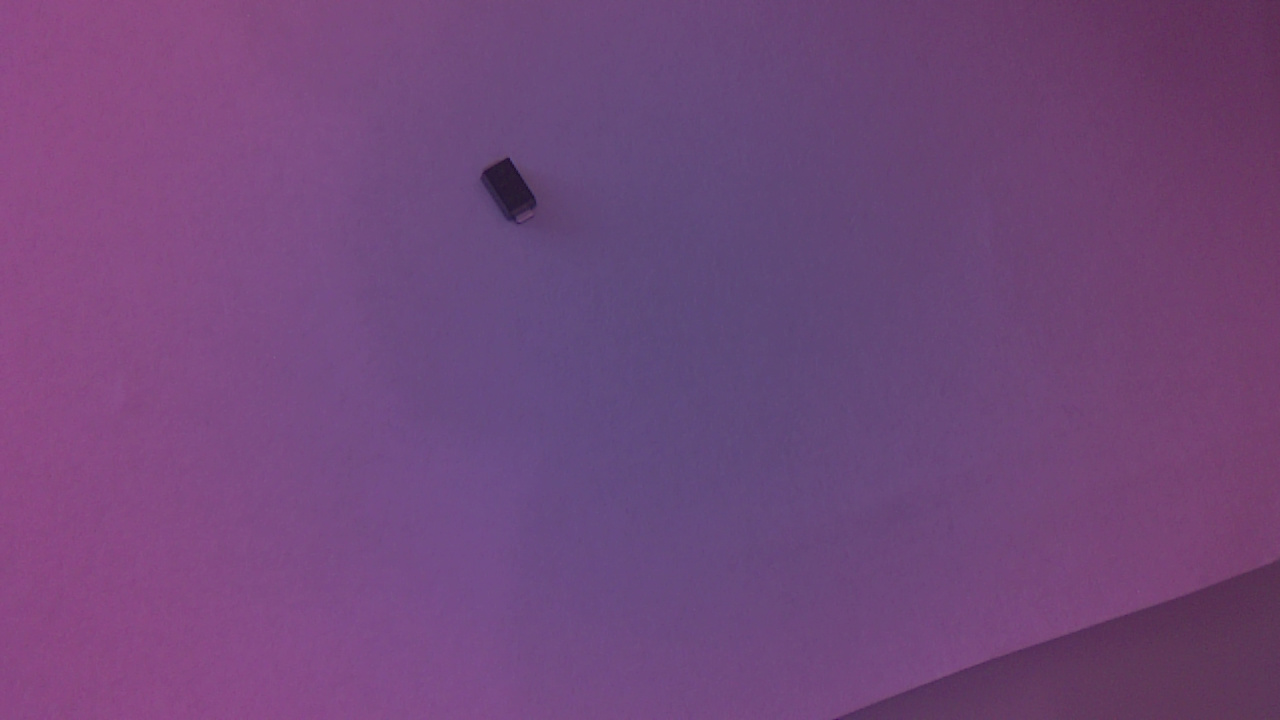Diode: (477, 156, 546, 235)
